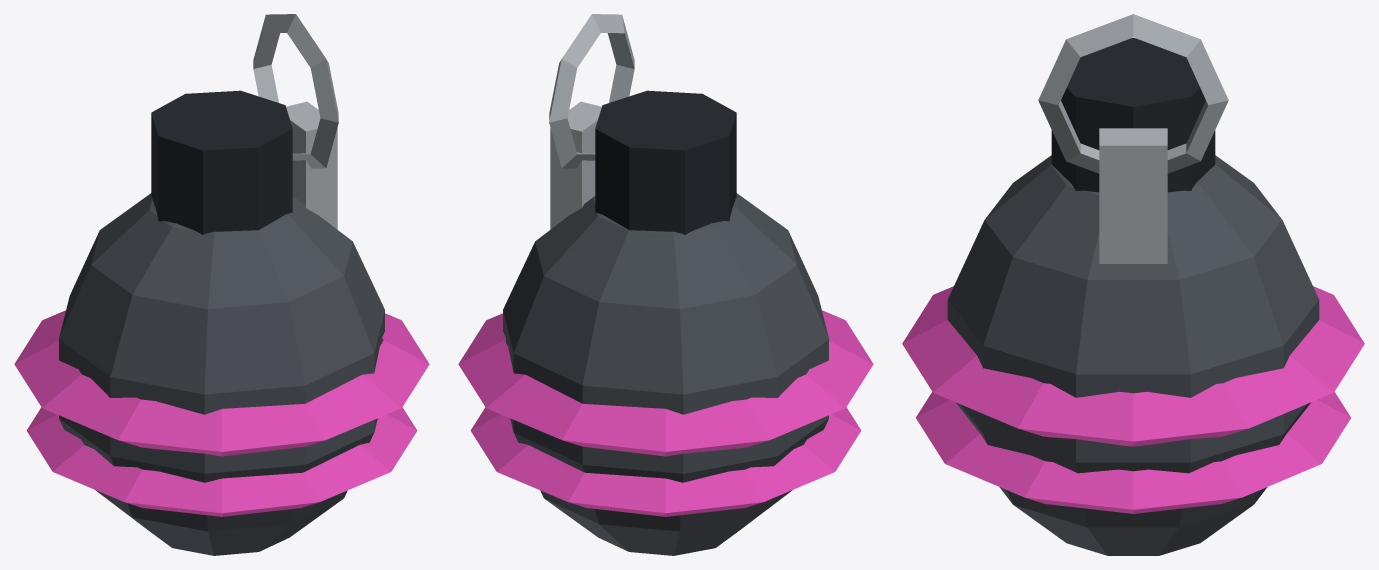
File: grenade-plasma.glb
3 renders of one model, left to right at view 1: azimuth 30°, elevation 25°; view 2: azimuth 150°, elevation 25°; view 3: azimuth 270°, elevation 25°, orthographic. The views are drawn at different scales.
Parts seen in each view (by area): view 1: m; view 2: m; view 3: m.
Boxes of the visible parts, bbox=[...] form: m: bbox=[14, 14, 429, 555]; m: bbox=[458, 14, 873, 555]; m: bbox=[902, 14, 1364, 555].
Size of the model in its own units: 0.059 by 0.08 by 0.059.
